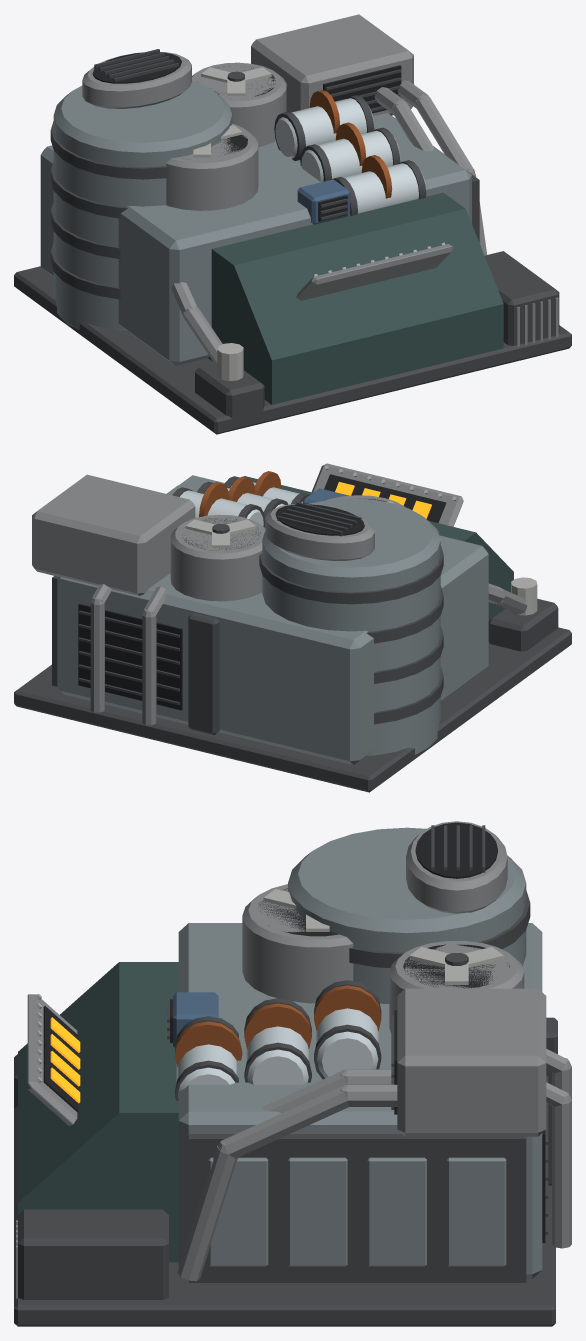
The model's file is electric-furnace.glb.
The picture shows the model from 3 angles, top to bottom: view 1: azimuth 30°, elevation 25°; view 2: azimuth 150°, elevation 25°; view 3: azimuth 270°, elevation 25°; orthographic projection. The views are drawn at different scales.
Visible parts, largest first — view 1: body, anim_spin_fan.001; view 2: body, anim_spin_fan.001, anim_glow_heater; view 3: body, anim_spin_fan.001, anim_glow_heater, anim_spin_fan.
Boxes of the visible parts, <box> form: body: <box>14,14,571,434</box>; anim_spin_fan.001: <box>201,67,271,95</box>; body: <box>14,463,571,792</box>; anim_spin_fan.001: <box>185,519,256,547</box>; anim_glow_heater: <box>335,482,431,518</box>; body: <box>14,821,571,1326</box>; anim_spin_fan.001: <box>409,947,503,984</box>; anim_glow_heater: <box>50,1017,80,1103</box>; anim_spin_fan: <box>263,889,329,931</box>.
Size of the model in its own units: 2.82 by 1.7 by 2.81.
